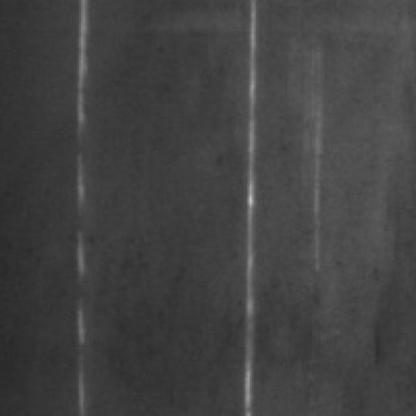scratches: (233, 0, 262, 410), (66, 0, 91, 410)
